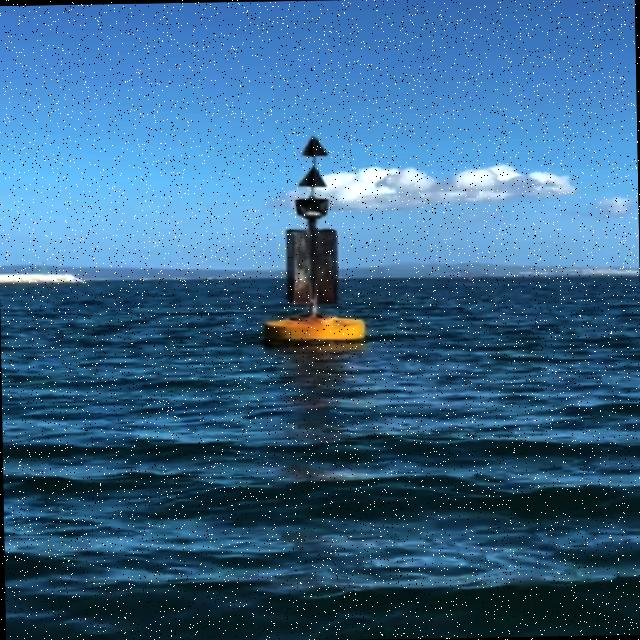marque: (263, 133, 376, 349)
